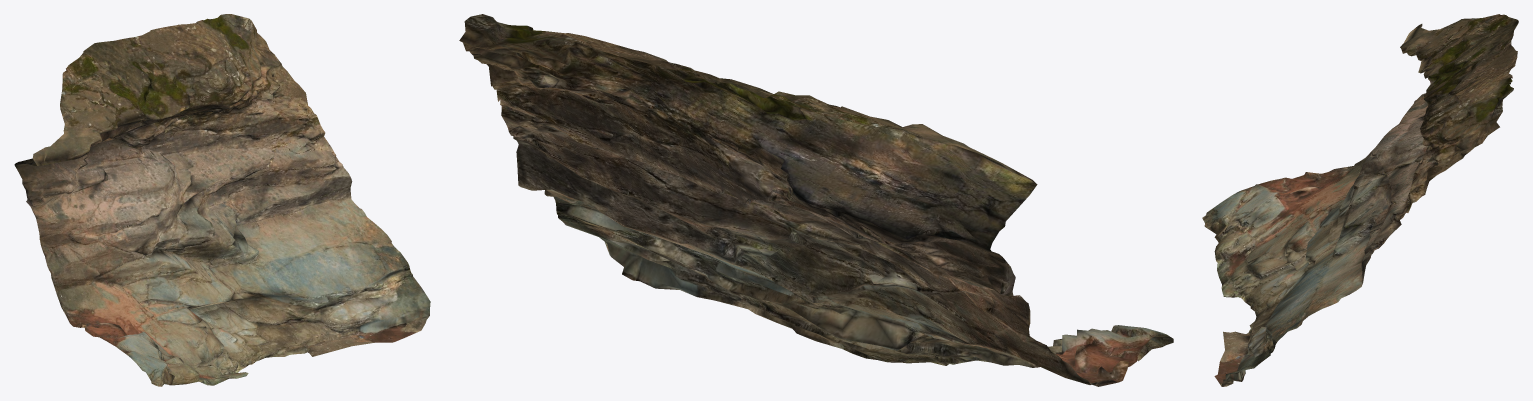
File: rock_face_01.glb
The picture shows the model from 3 angles, left to right: view 1: azimuth 30°, elevation 25°; view 2: azimuth 150°, elevation 25°; view 3: azimuth 270°, elevation 25°; orthographic projection. The views are drawn at different scales.
Visible parts, largest first — view 1: rock_face_01; view 2: rock_face_01; view 3: rock_face_01.
Boxes of the visible parts, box(x1,y1,x2,y2) form: rock_face_01: box(14, 14, 430, 386); rock_face_01: box(459, 14, 1173, 386); rock_face_01: box(1202, 14, 1518, 386).
Bounding box in the file's own units: 4.94 × 3.56 × 3.82.
Materials: 1 (1 with a texture image).
